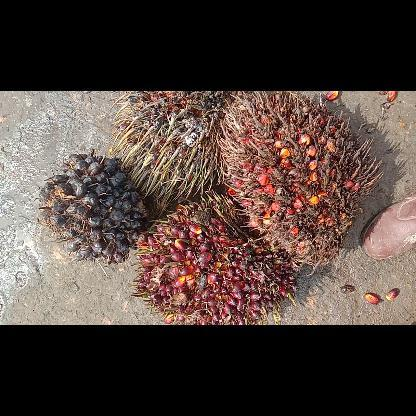TBS abnormal: (113, 92, 221, 198)
TBS masak: (133, 196, 297, 324)
TBS mentah: (39, 150, 143, 260)
Terlalu masak: (221, 90, 384, 266)
